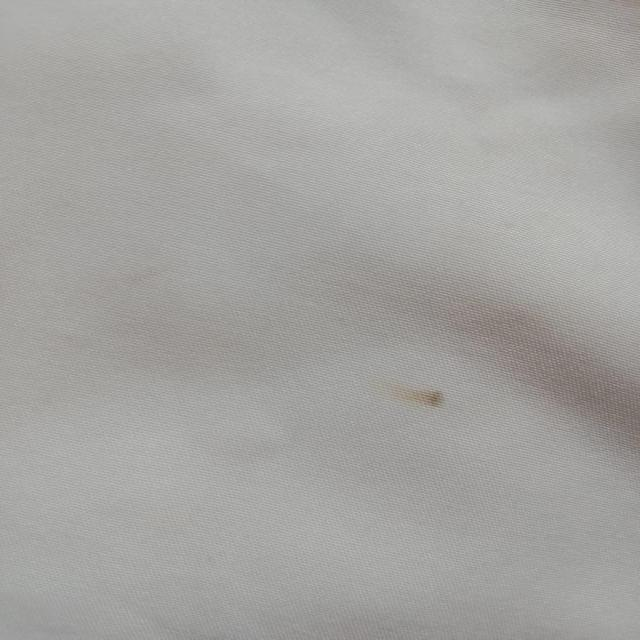stain: (384, 379, 466, 413)
